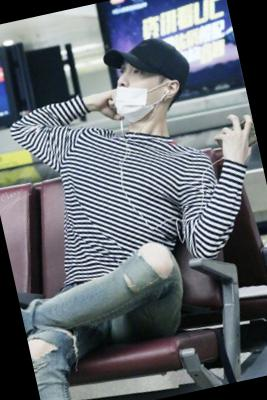mask_weared_incorrect: (108, 59, 169, 122)
